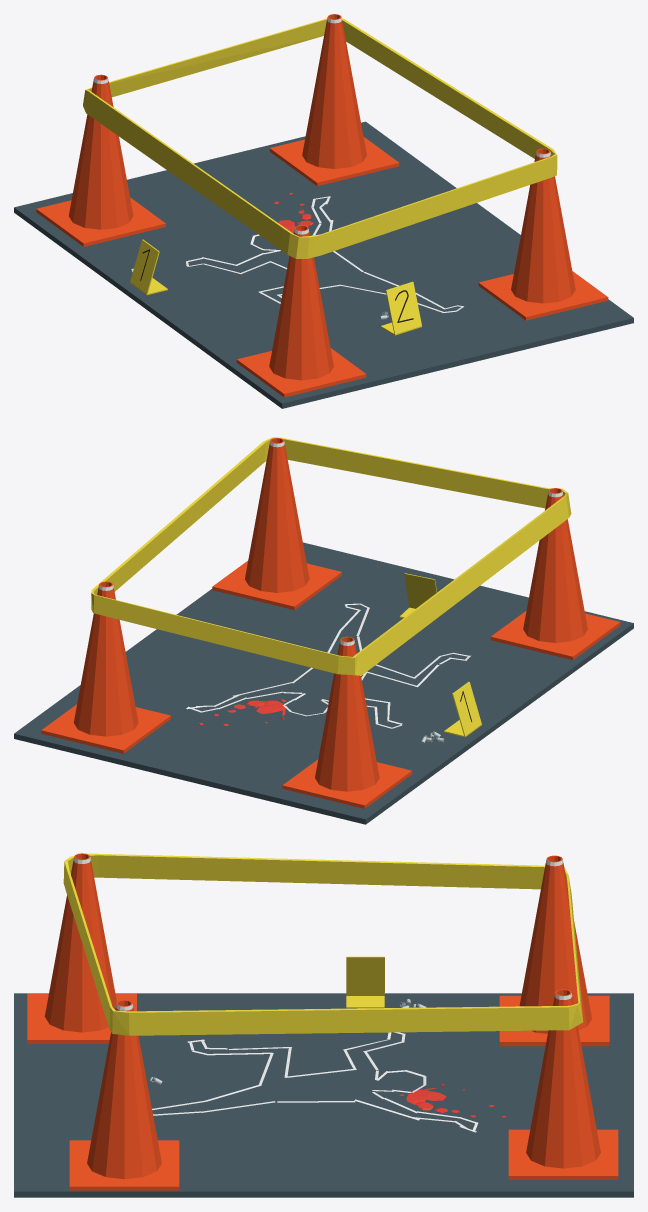
The model's file is crimeScene.fbx.
3 views of the same model, one above another, from view 1: azimuth 30°, elevation 25°; view 2: azimuth 150°, elevation 25°; view 3: azimuth 270°, elevation 25° (orthographic). The views are drawn at different scales.
Parts seen in each view (by area): view 1: node_id12 (×4); view 2: node_id12 (×5); view 3: node_id12 (×5).
Part boxes in pixels (left/top/right/bottom): node_id12 (×4): left=14, top=14, right=633, bottom=408; node_id12 (×5): left=14, top=437, right=633, bottom=824; node_id12 (×5): left=14, top=853, right=633, bottom=1197.
Size of the model in its own units: 0.512 by 0.2047 by 0.6762.
